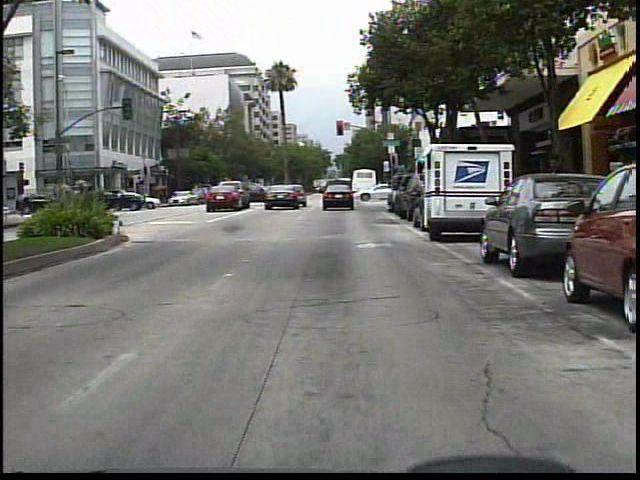person: (537, 149, 568, 239), (260, 181, 261, 206)
